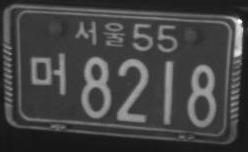1: (153, 59, 181, 126)
2: (115, 56, 150, 124)
5: (130, 21, 155, 52), (156, 23, 179, 54)
8: (79, 55, 113, 119), (186, 62, 218, 129)
머: (29, 51, 69, 97)
서울_O: (73, 19, 126, 48)
